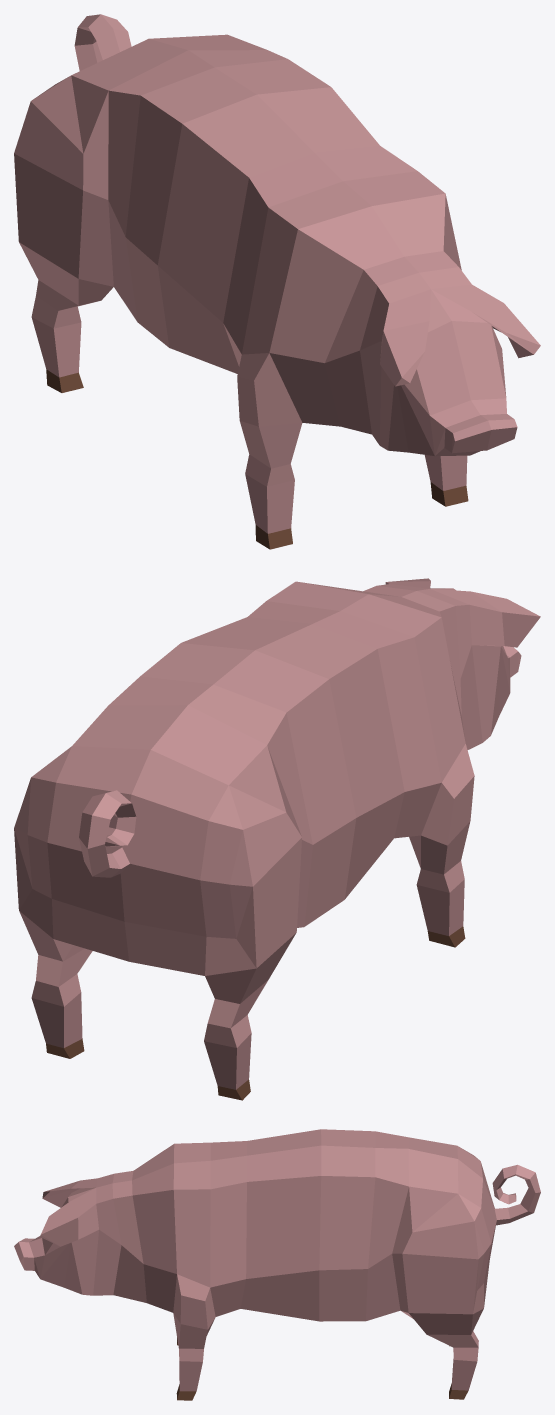
File: Pig.glb
The picture shows the model from 3 angles, top to bottom: view 1: azimuth 30°, elevation 25°; view 2: azimuth 150°, elevation 25°; view 3: azimuth 270°, elevation 25°; orthographic projection. The views are drawn at different scales.
Visible parts, largest first — view 1: Pig_Cylinder; view 2: Pig_Cylinder; view 3: Pig_Cylinder.
Boxes of the visible parts, box(x1,y1,x2,y2) form: Pig_Cylinder: box(14, 14, 540, 549); Pig_Cylinder: box(14, 578, 540, 1100); Pig_Cylinder: box(14, 1129, 540, 1400).
Bounding box in the file's own units: 3.3 × 4.58 × 9.77.
